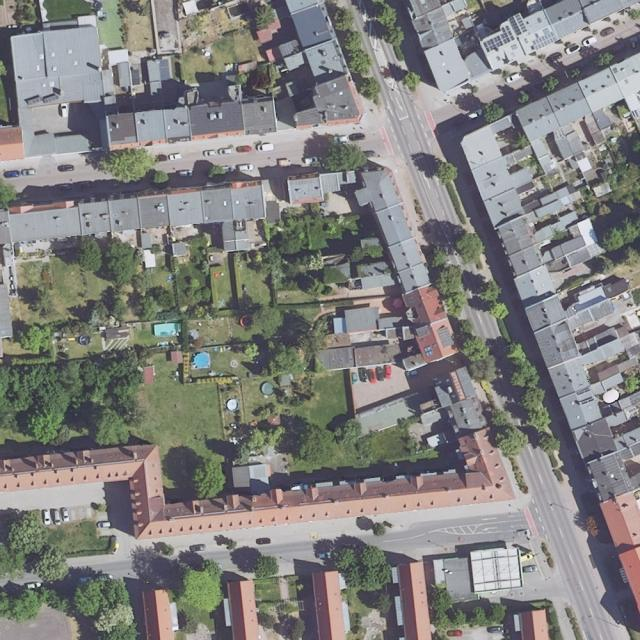PV: (482, 25, 516, 53), (532, 31, 557, 51), (511, 13, 527, 35)
ST: (26, 93, 60, 105)
